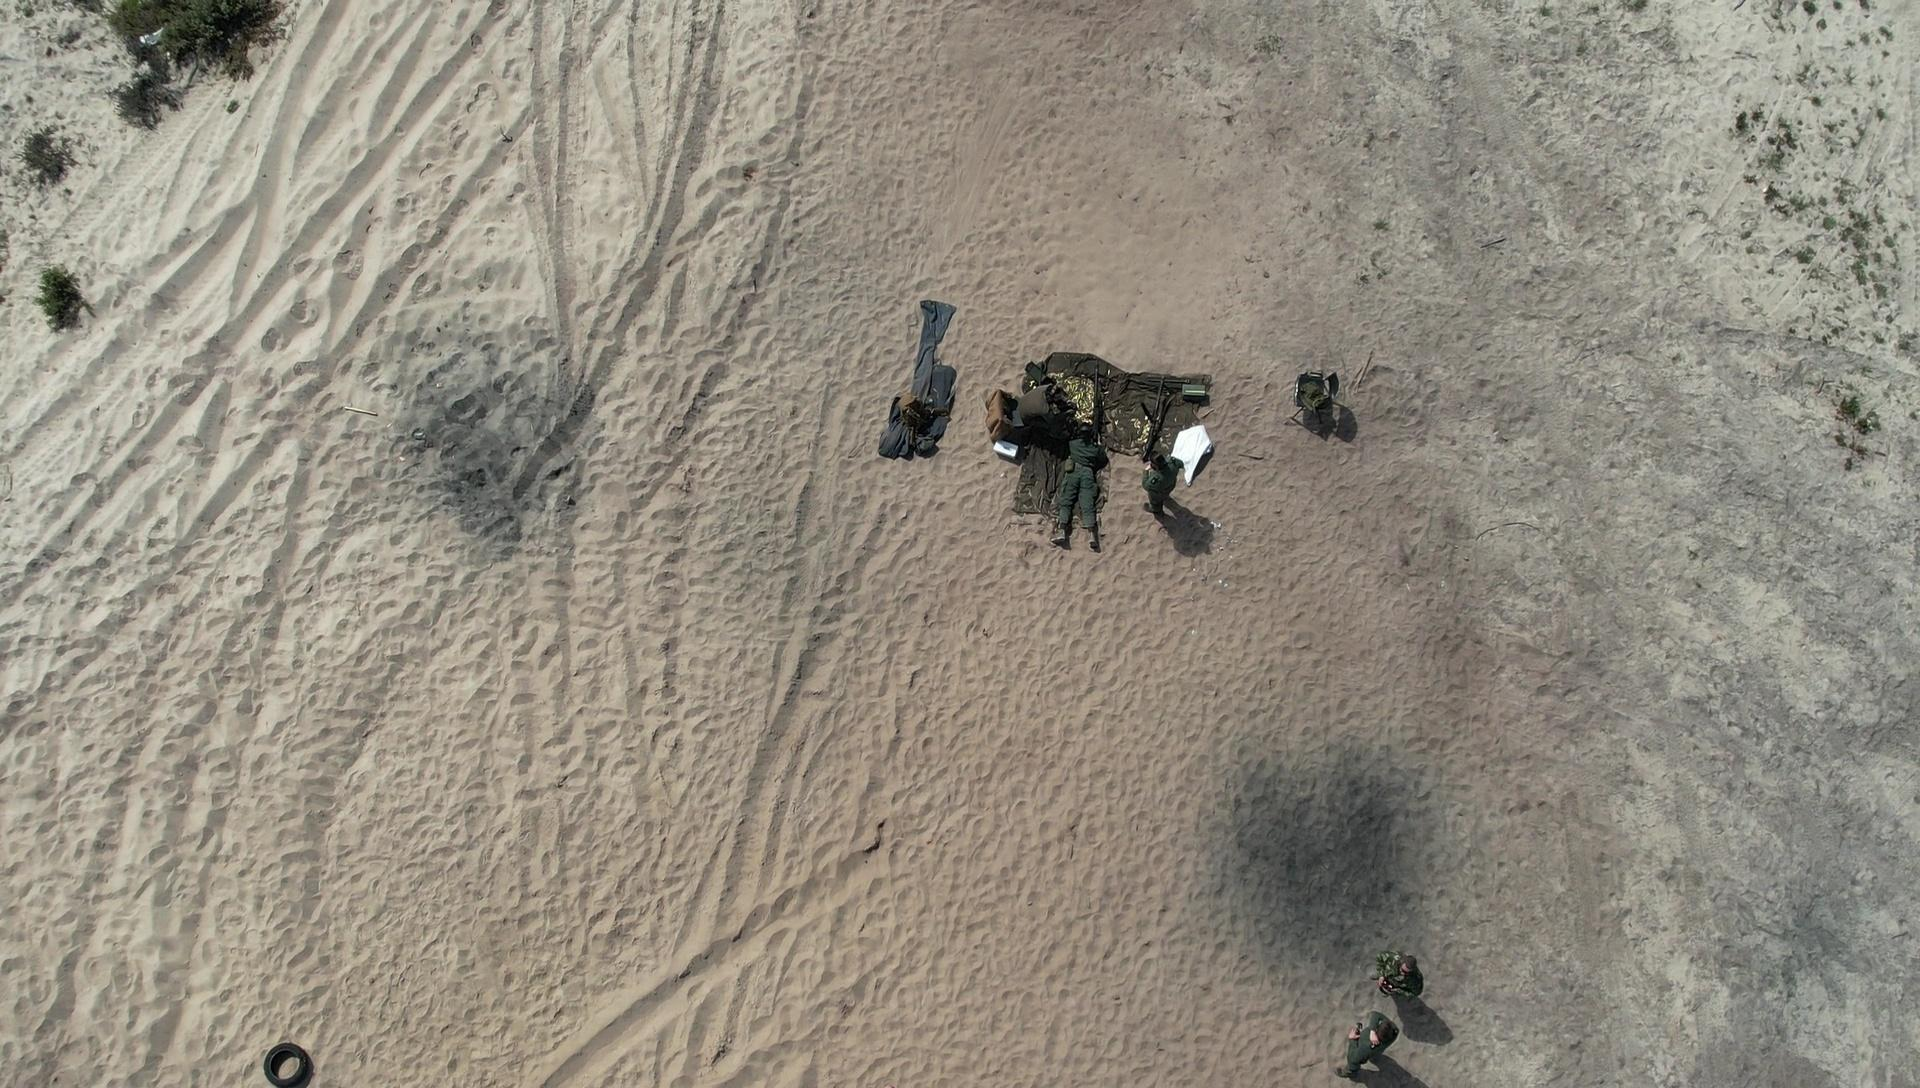Soldier: (1035, 401, 1113, 543), (1335, 994, 1416, 1087), (1007, 378, 1083, 452), (1367, 924, 1432, 1010), (1135, 444, 1201, 528)
